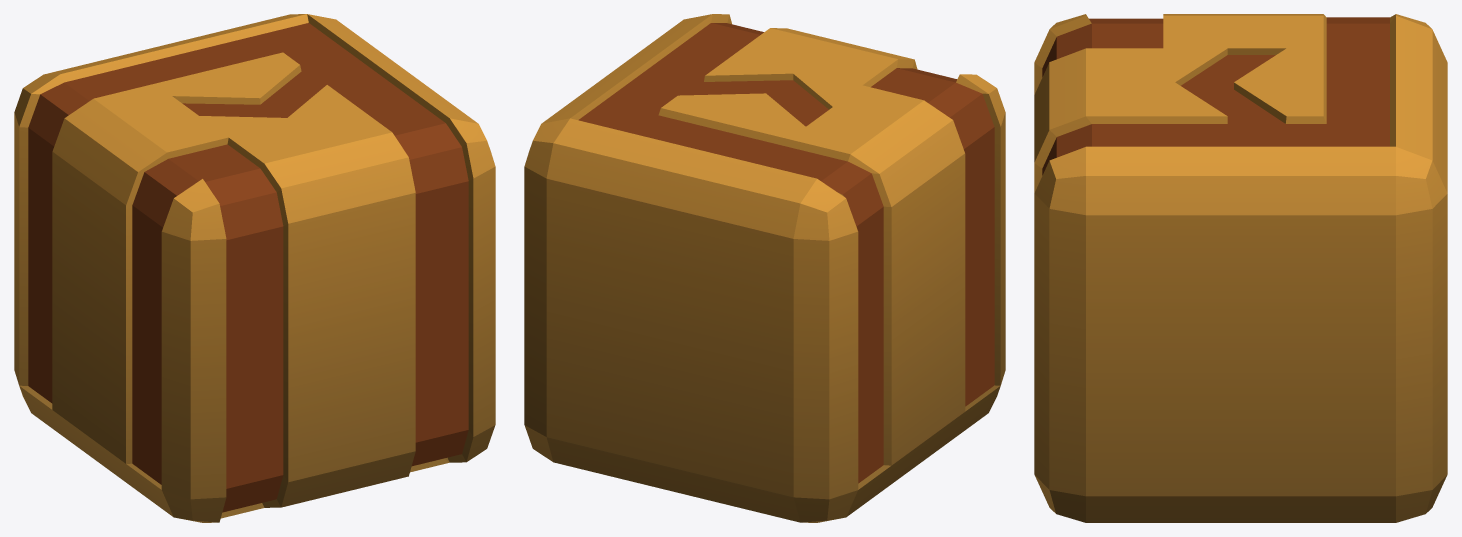
Rendered from Tile_Snake_Turn_Gold_01.fbx.
3 views of the same model, side by side, from view 1: azimuth 30°, elevation 25°; view 2: azimuth 150°, elevation 25°; view 3: azimuth 270°, elevation 25° (orthographic). The views are drawn at different scales.
Visible parts, largest first — view 1: Jalur Ular Belok Emas; view 2: Jalur Ular Belok Emas; view 3: Jalur Ular Belok Emas.
Part boxes in pixels (left/top/right/bottom): Jalur Ular Belok Emas: left=14, top=14, right=495, bottom=522; Jalur Ular Belok Emas: left=524, top=14, right=1005, bottom=522; Jalur Ular Belok Emas: left=1034, top=14, right=1447, bottom=522.
Size of the model in its own units: 1 by 1 by 1.
1 material, 1 textured.
